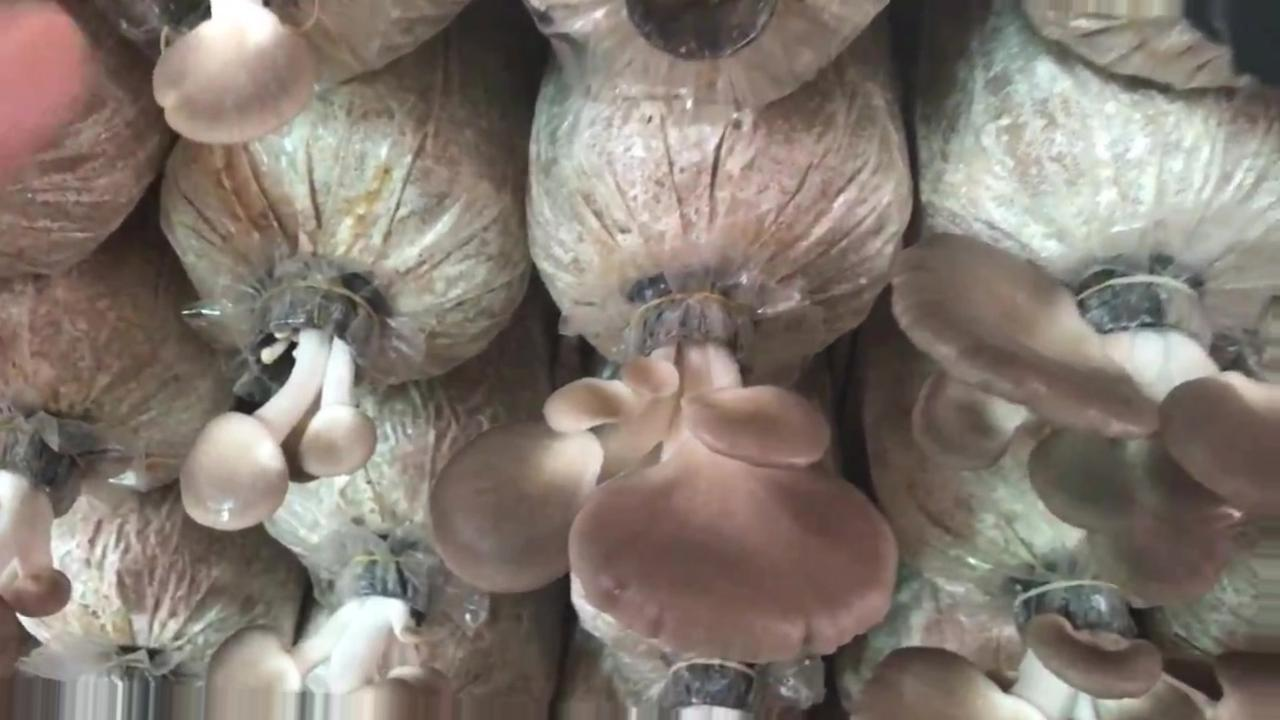nam: (432, 284, 895, 663), (888, 231, 1278, 612), (850, 564, 1280, 718), (184, 270, 382, 530), (210, 552, 471, 720), (148, 1, 318, 149), (1, 418, 75, 664)
